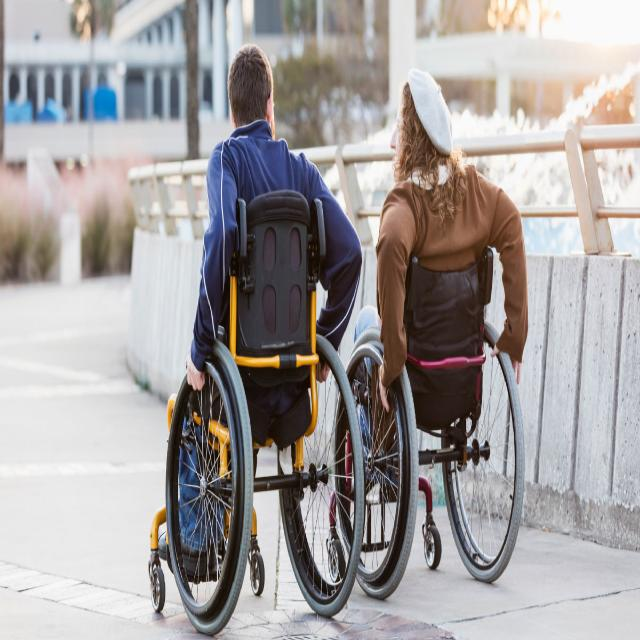wheelchairs: (142, 193, 367, 640), (365, 242, 529, 606)
